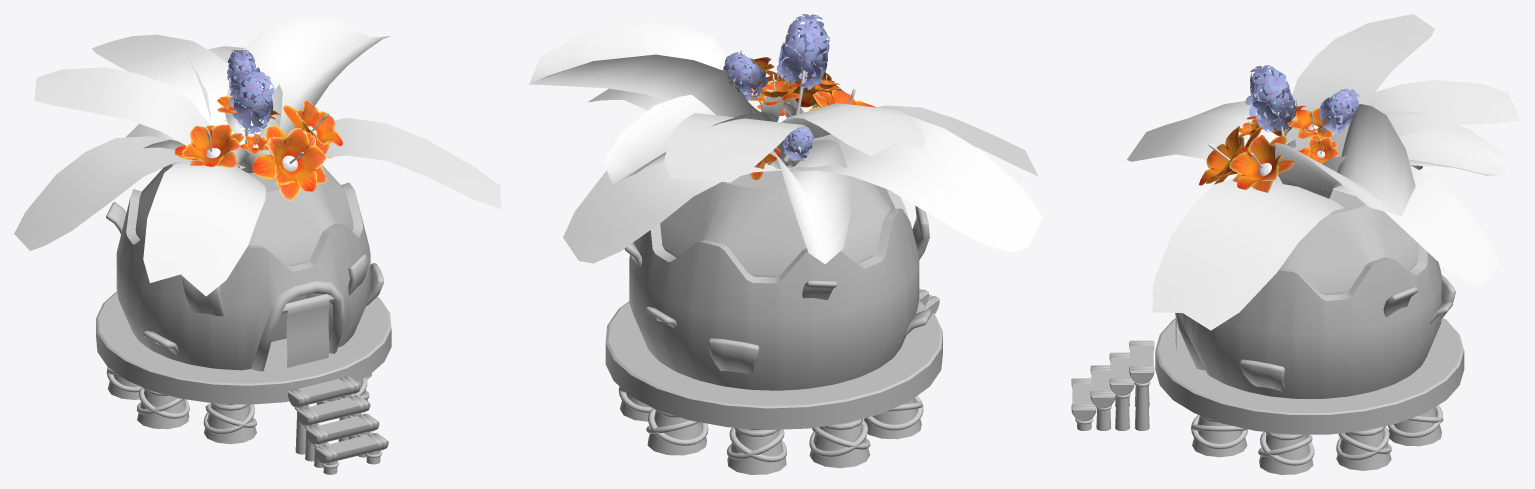
File: Prop_House.fbx
3 views of the same model, side by side, from view 1: azimuth 30°, elevation 25°; view 2: azimuth 150°, elevation 25°; view 3: azimuth 270°, elevation 25° (orthographic). The views are drawn at different scales.
Visible parts, largest first — view 1: Prop_House, House, Floor, Vine_003, Stairs, FloorLeg, poster, Hyacinth_Flower_001_1, StairsLeg, Hyacinth_Flower_002, Hyacinth_Leaf_004_1; view 2: Prop_House, House, Floor, FloorLeg, Hyacinth_Flower_001_1, Vine_003, Hyacinth_Flower_002, Hyacinth_Flower_001; view 3: Prop_House, House, Floor, FloorLeg, Vine_003, Stairs, Hyacinth_Flower_001_1, StairsLeg, Hyacinth_Flower_002.
Part boxes in pixels (x1,y1,x2,y2): Prop_House: (14,14,500,296); House: (106,162,383,371); Floor: (96,291,391,404); Vine_003: (175,95,342,200); Stairs: (288,376,388,463); FloorLeg: (106,367,371,444); poster: (285,294,329,367); Hyacinth_Flower_001_1: (229,71,274,133); StairsLeg: (295,394,382,474); Hyacinth_Flower_002: (227,49,260,91); Hyacinth_Leaf_004_1: (232,108,271,173); Prop_House: (529,21,1042,264); House: (624,163,932,390); Floor: (605,300,942,429); FloorLeg: (618,386,923,474); Hyacinth_Flower_001_1: (776,14,829,89); Vine_003: (740,49,876,180); Hyacinth_Flower_002: (723,52,767,99); Hyacinth_Flower_001: (783,127,813,160); Prop_House: (1127,14,1519,330); House: (1175,188,1455,398); Floor: (1155,318,1464,434); FloorLeg: (1191,405,1443,474); Vine_003: (1199,101,1339,192); Stairs: (1071,340,1154,421); Hyacinth_Flower_001_1: (1245,65,1296,132); StairsLeg: (1075,381,1150,430); Hyacinth_Flower_002: (1319,88,1359,133).
Bounding box in the file's own units: 936 × 692 × 816.
